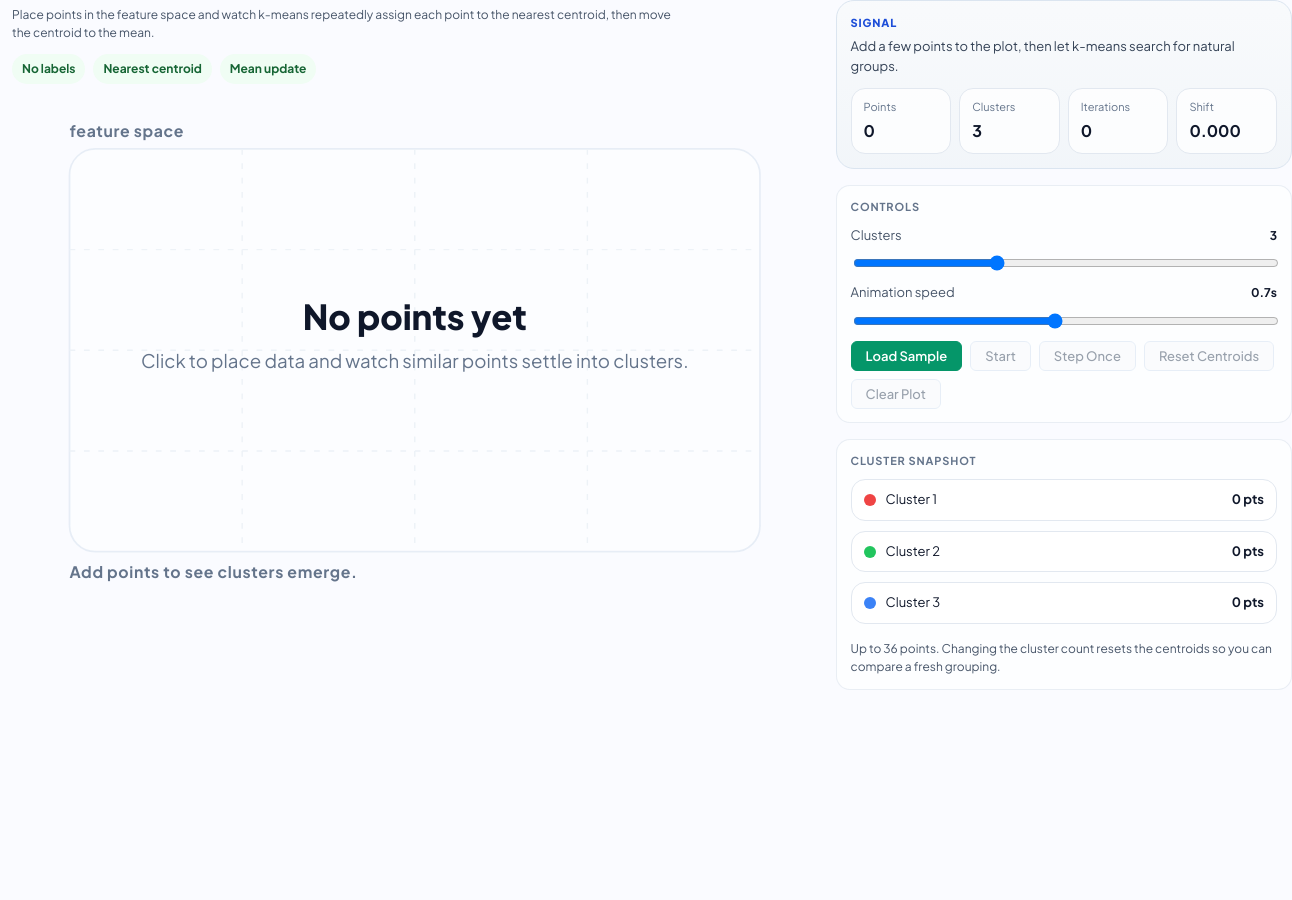
ClusteringLab › resets to zero points after Clear Plot
This screenshot has width=1292, height=900.
Click the button "Load Sample" at (906, 356), box [850,341,962,371]
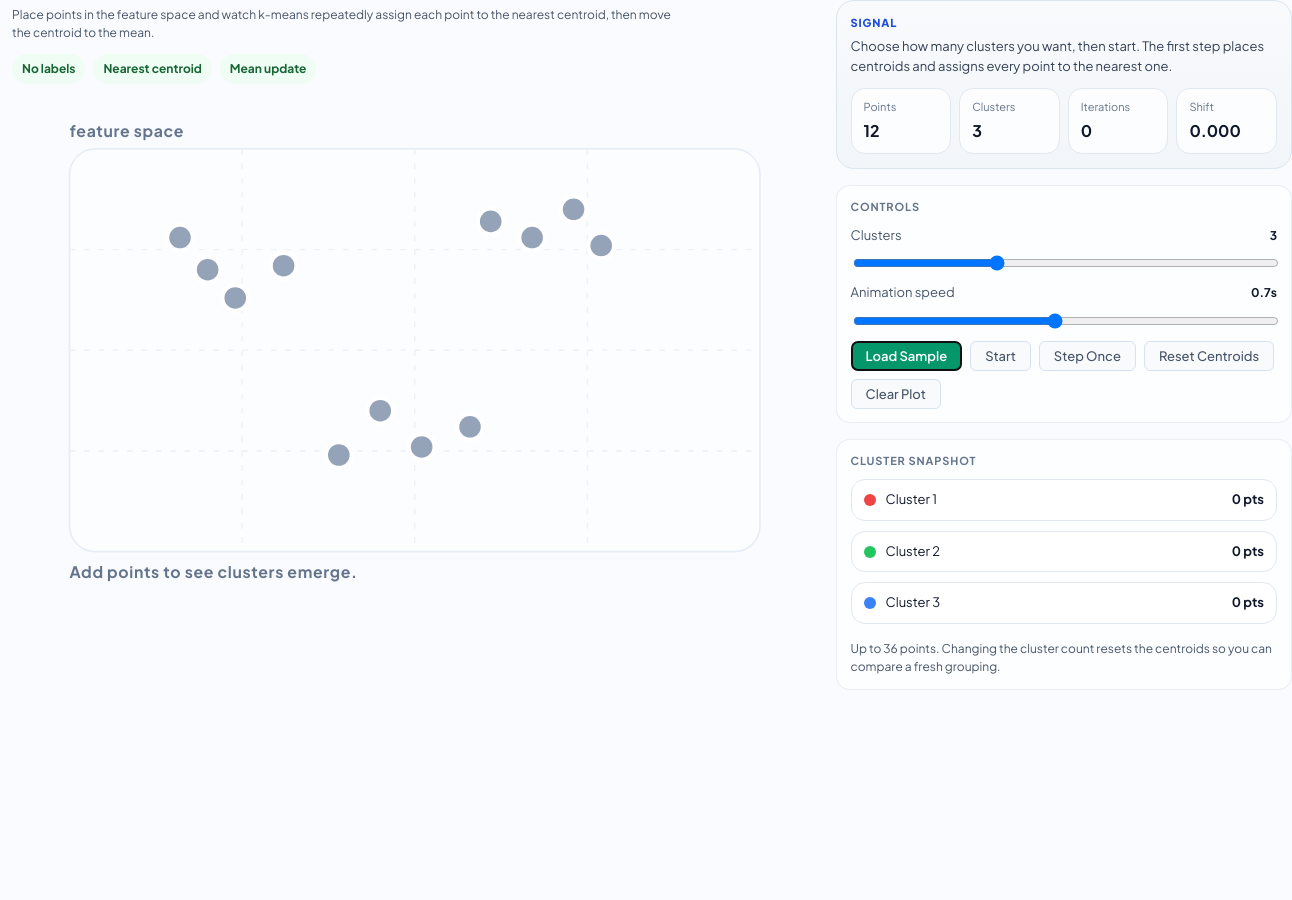
Result: the text "12" is shown at [864,120,880,141]
Click the button "Clear Plot" at (896, 394), box [850,379,941,409]
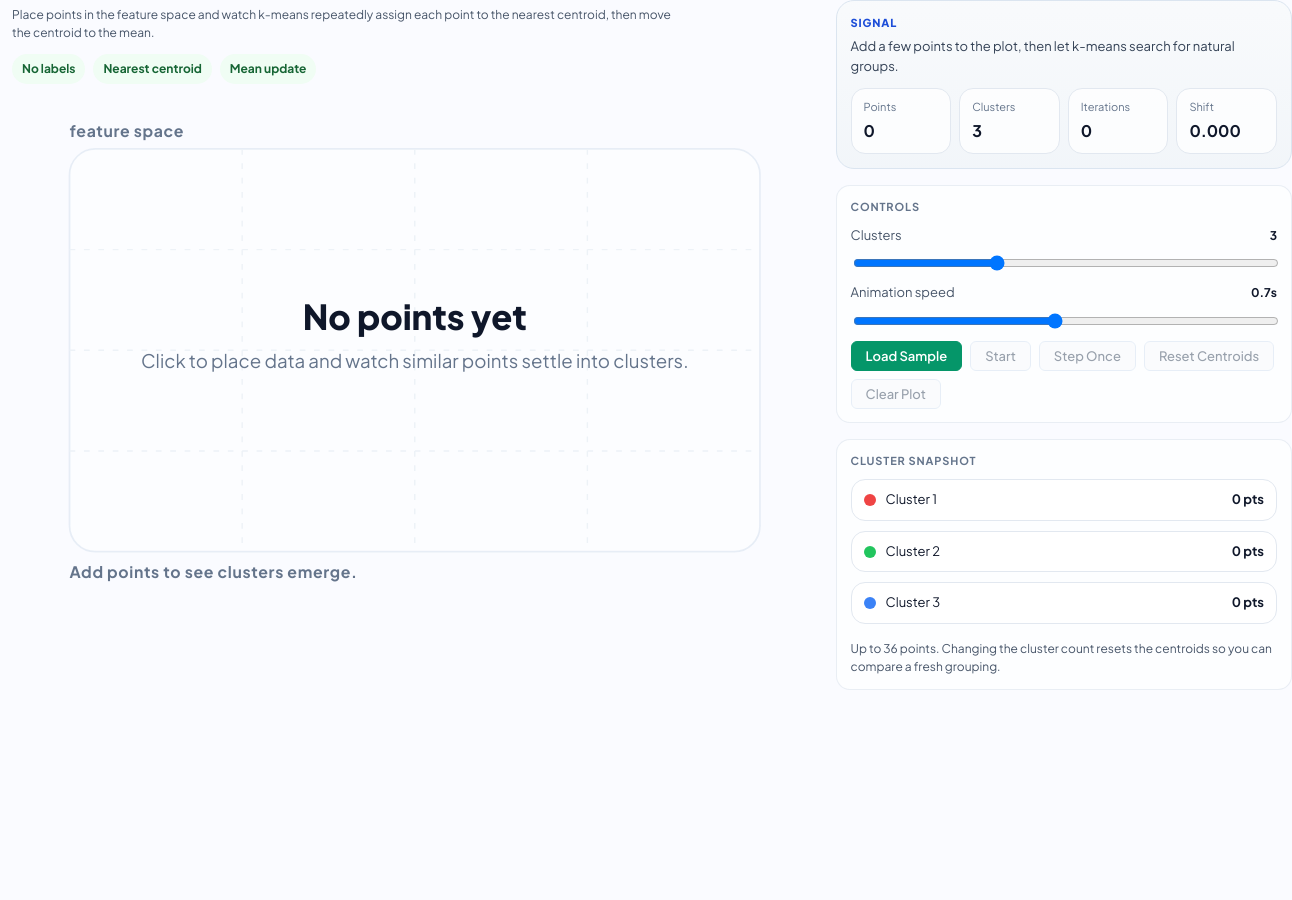
Result: the 1st text "0" is shown at [864,120,875,141]
Result: the button "Start" is disabled at [970,341,1031,371]
